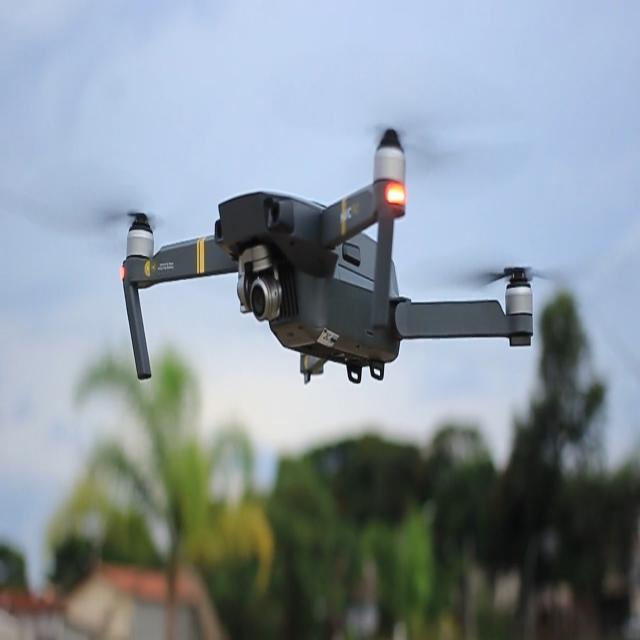Drone: (120, 133, 532, 388)
